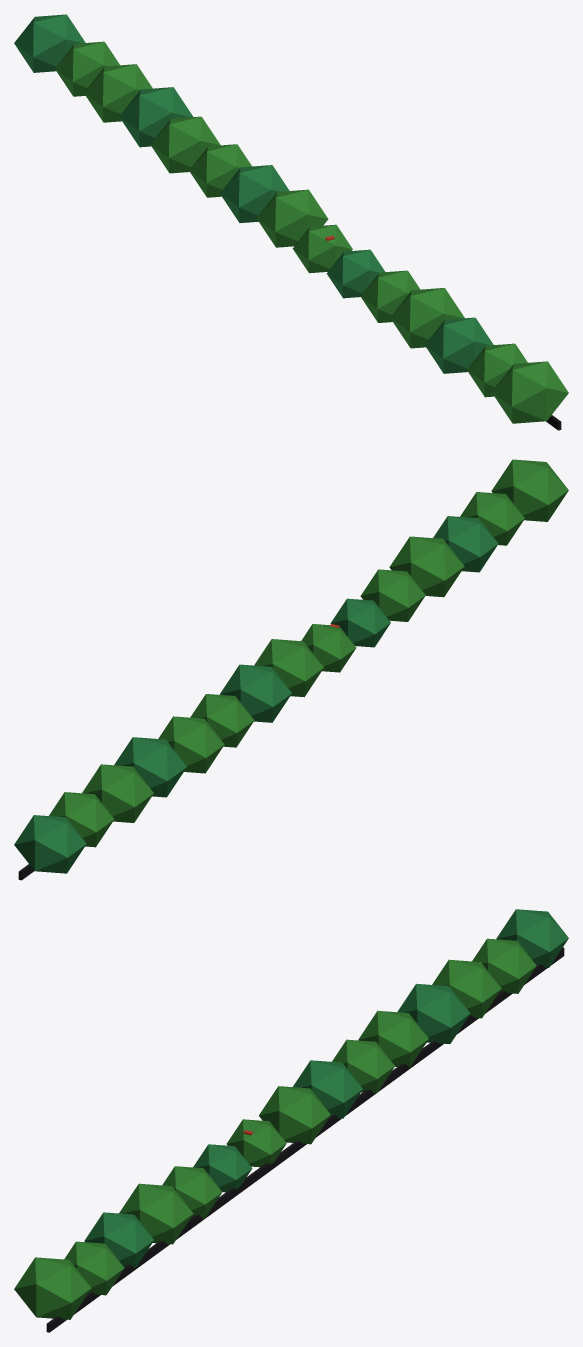
The model's file is prop_crop-row.805609f78f2f.glb.
3 renders of one model, top to bottom at view 1: azimuth 30°, elevation 25°; view 2: azimuth 150°, elevation 25°; view 3: azimuth 330°, elevation 25°, orthographic.
Parts seen in each view (by area): view 1: body; view 2: body; view 3: body.
Boxes of the visible parts, x1,y1,x2,y2 form: body: (14,14,568,430); body: (14,459,568,880); body: (14,909,568,1332).
Size of the model in its own units: 0.5974 by 0.532 by 9.
